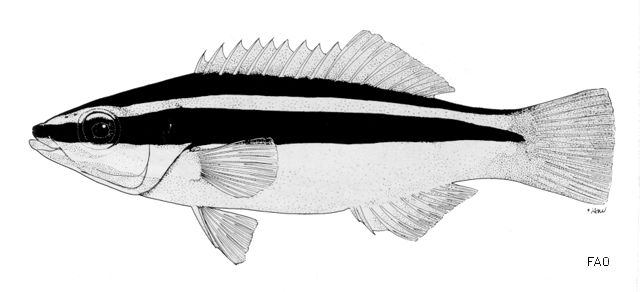fish: (29, 31, 616, 264)
